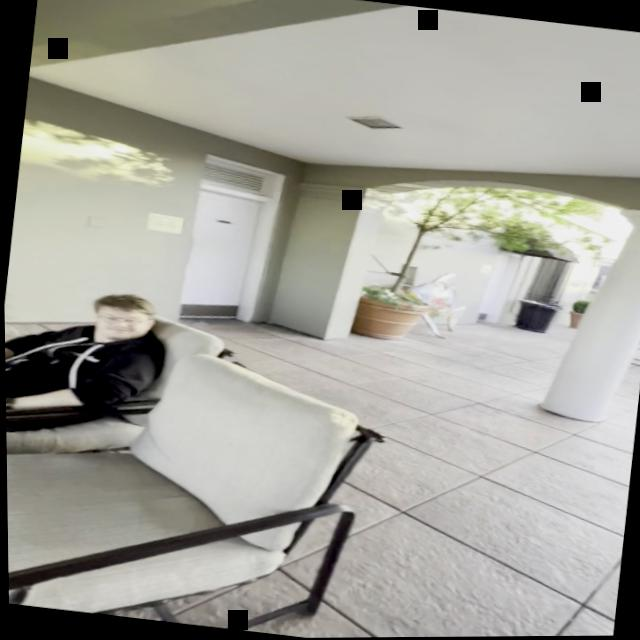NO-Mask: (88, 301, 152, 345)
